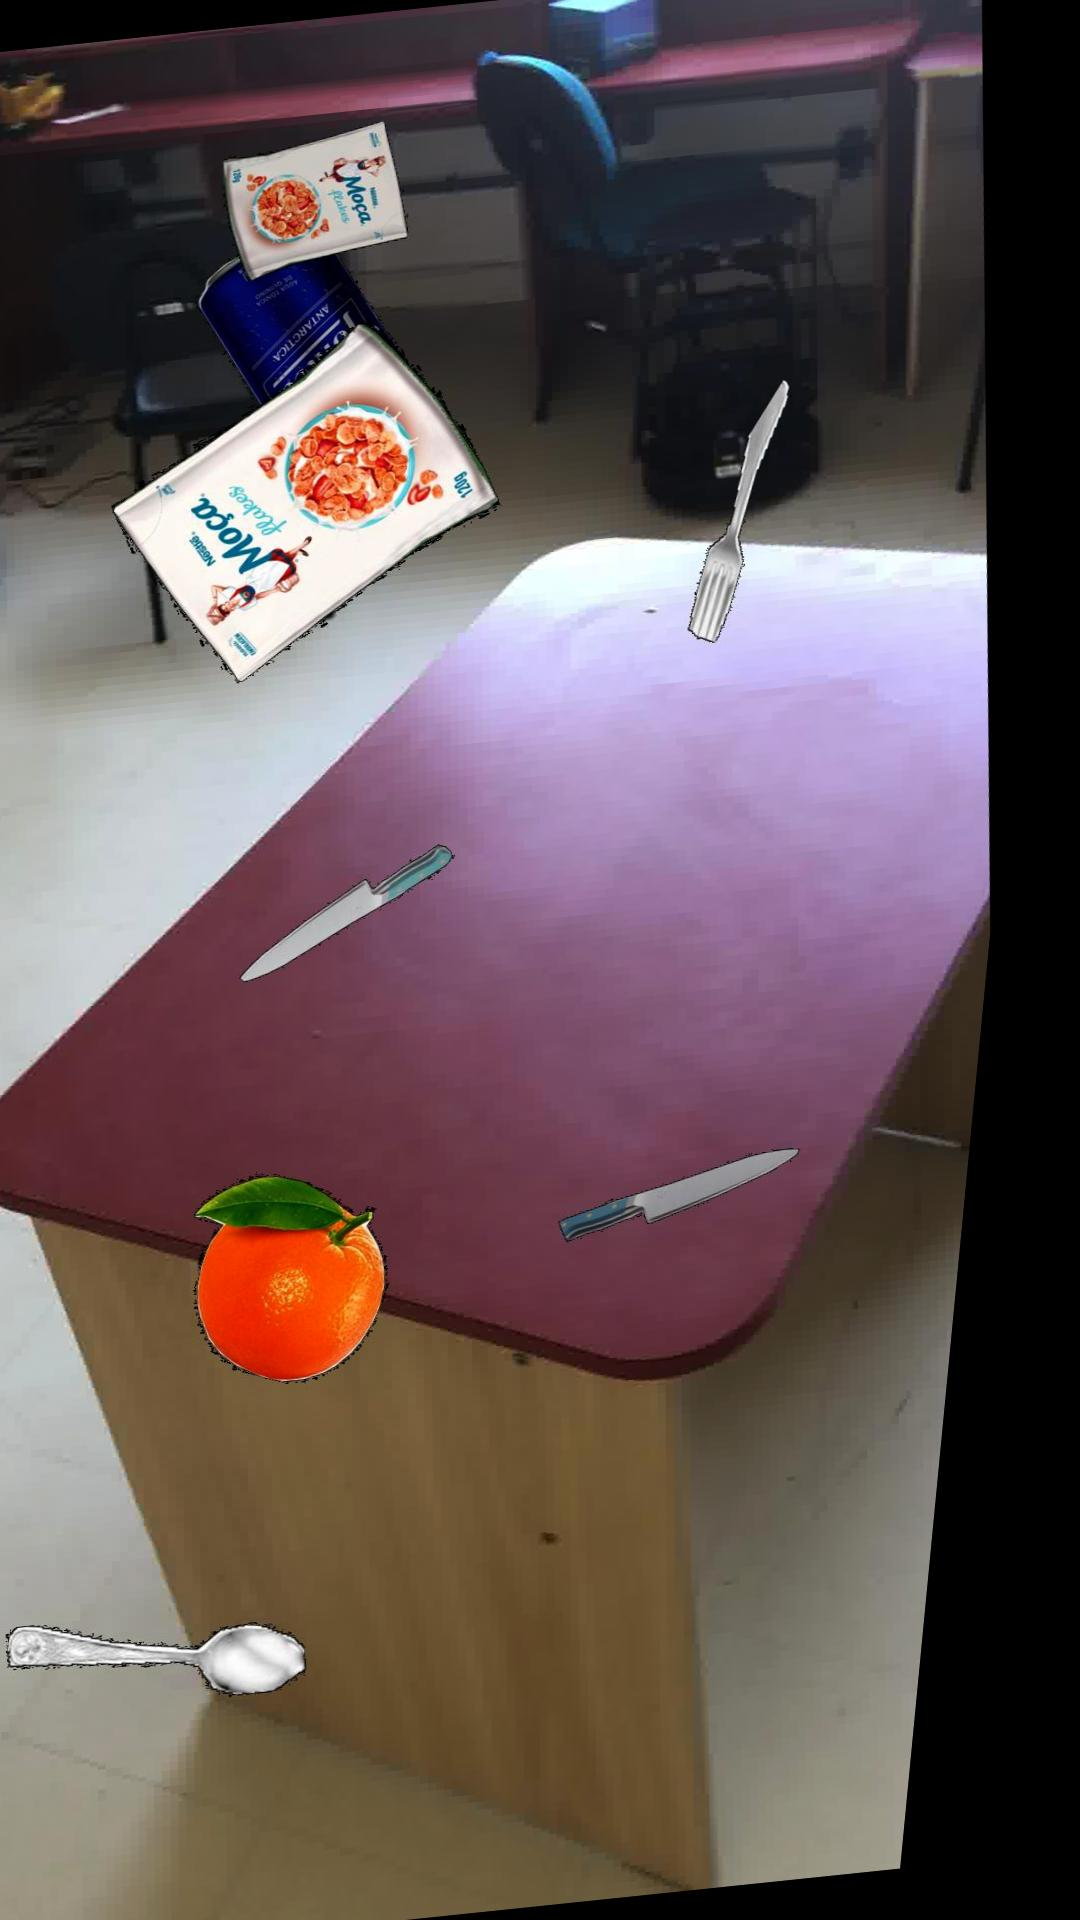corn flakes: (123, 319, 510, 679), (227, 119, 413, 278)
fork: (702, 377, 799, 640)
knife: (260, 843, 472, 980), (584, 1146, 824, 1240)
orange: (220, 1172, 414, 1382)
spoon: (40, 1622, 340, 1693)
tonic: (204, 252, 404, 402)
